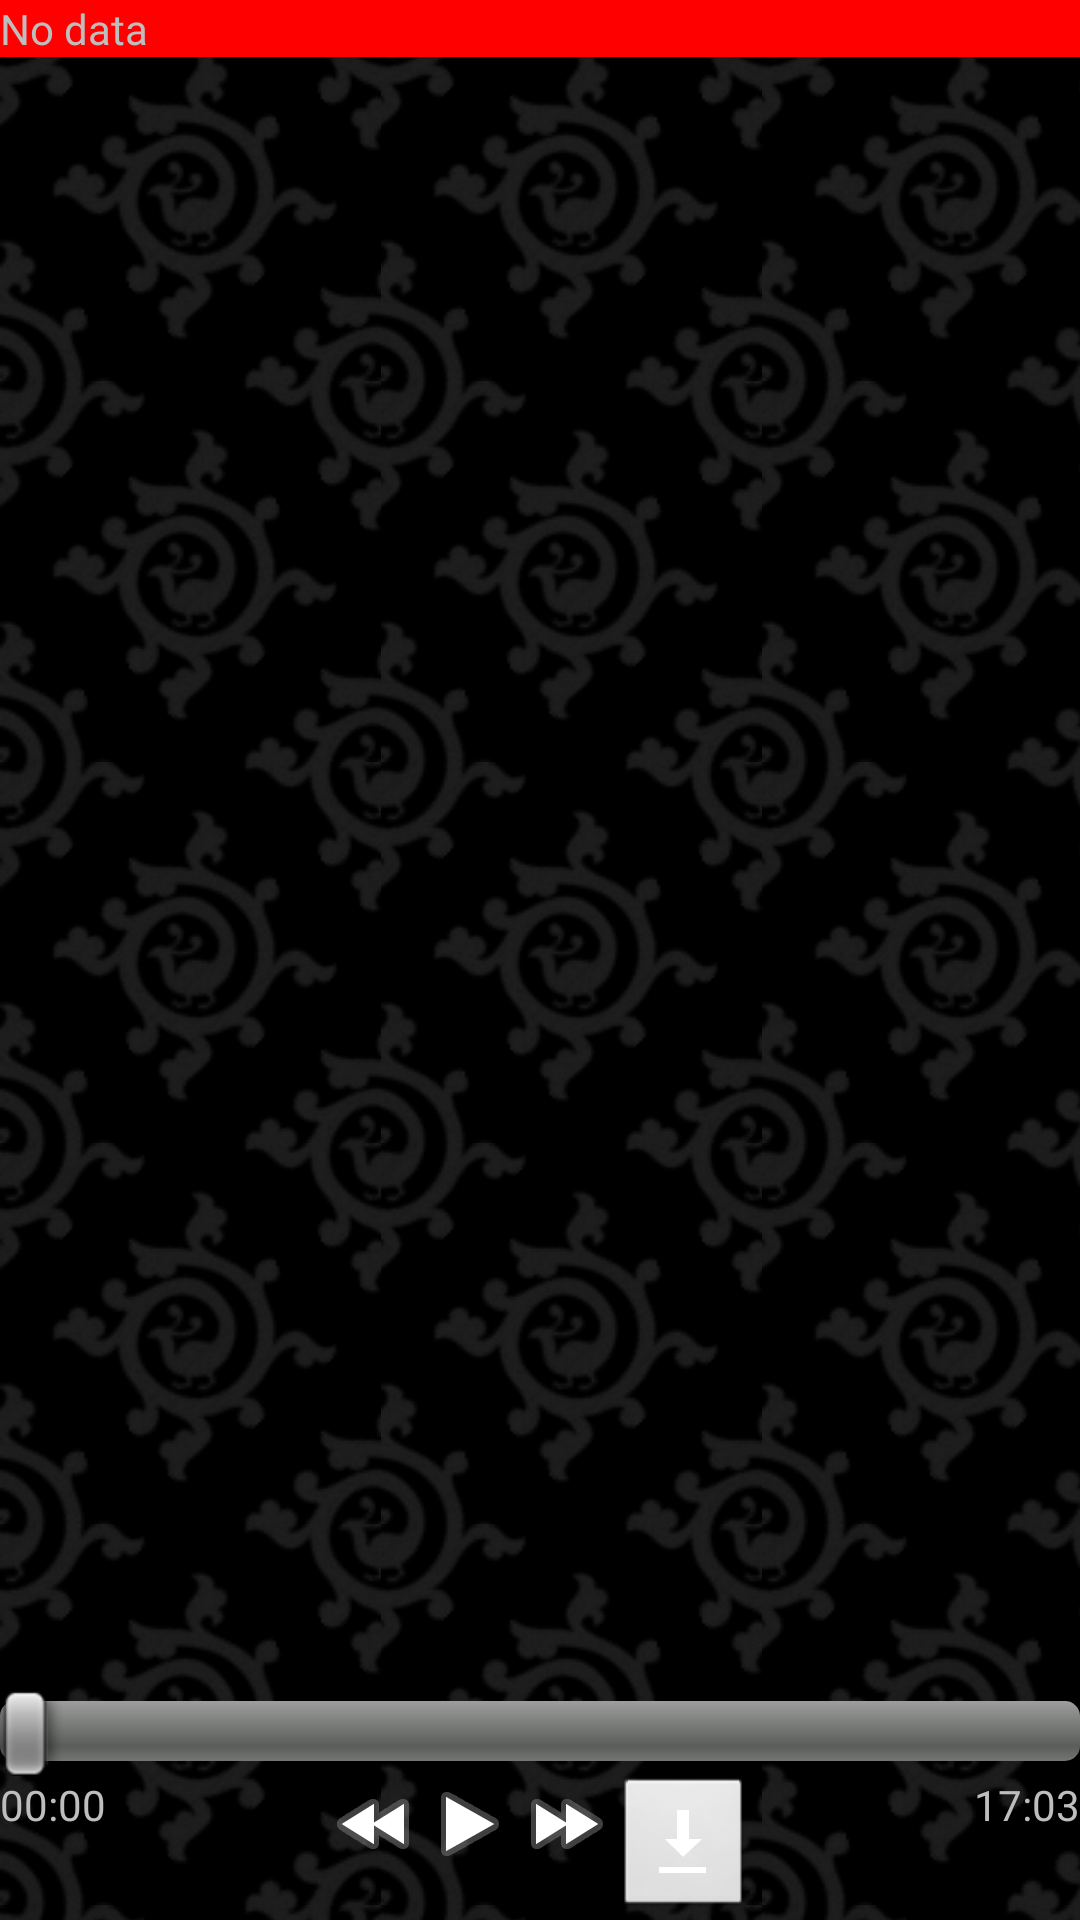

Screen size 1080 x 1920. Icon name, then its center in pixels as [x,y]:
download: [683,1848]
